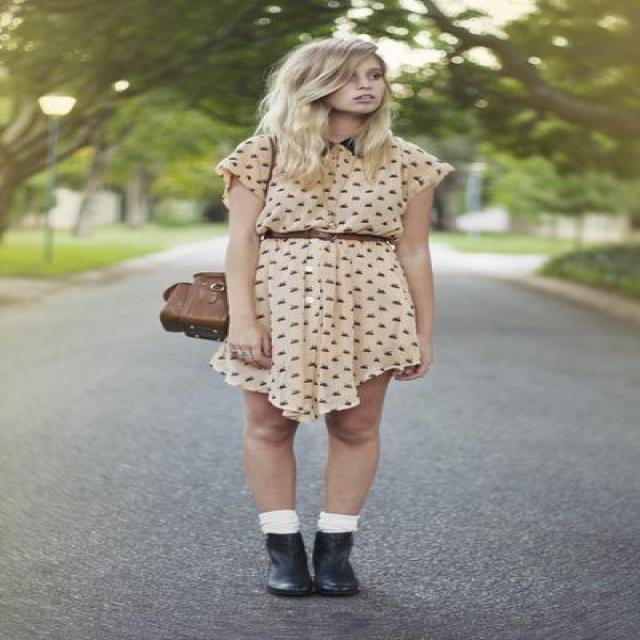bag: (160, 272, 229, 341)
dress: (212, 146, 426, 421)
jacket: (254, 225, 397, 244)
shoe: (266, 530, 360, 600)
